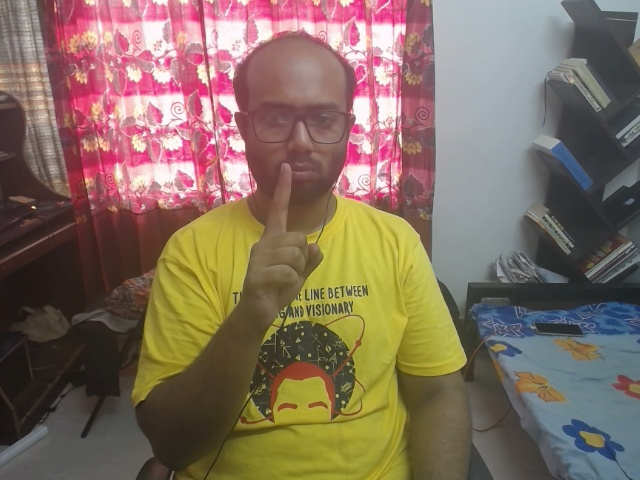one: (230, 157, 351, 353)
